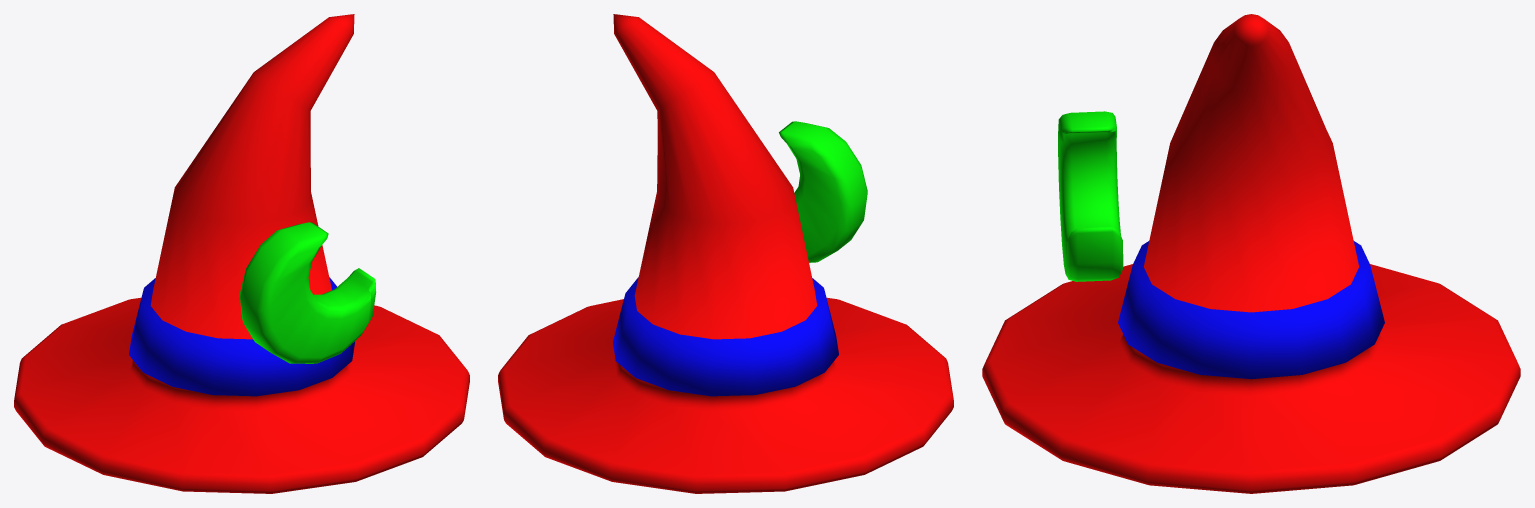
Rendered from hat_full_color.fbx.
The picture shows the model from 3 angles, left to right: view 1: azimuth 30°, elevation 25°; view 2: azimuth 150°, elevation 25°; view 3: azimuth 270°, elevation 25°; orthographic projection. The views are drawn at different scales.
Visible parts, largest first — view 1: Hat-fullColor; view 2: Hat-fullColor; view 3: Hat-fullColor.
Part boxes in pixels (x1,y1,x2,y2): Hat-fullColor: [14, 14, 469, 493]; Hat-fullColor: [498, 14, 953, 493]; Hat-fullColor: [982, 14, 1520, 493].
Bounding box in the file's own units: 251 × 216 × 251.
